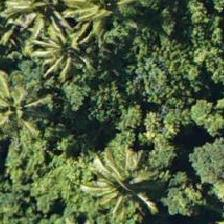coconut_tree: (25, 8, 115, 98), (66, 124, 156, 214), (0, 0, 87, 47)
